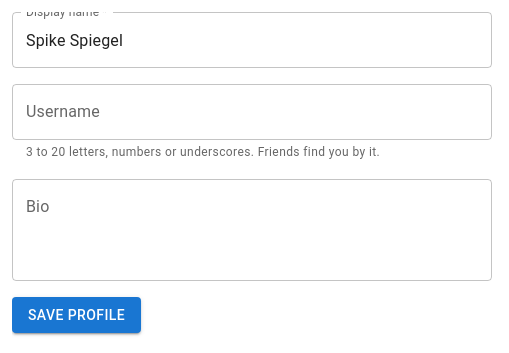
Test: ProfileForm › clears the error when the user edits again
The image size is (509, 353).
In the field labelled "Username": (252,112) 12,84 -> 492,140, type "faye"
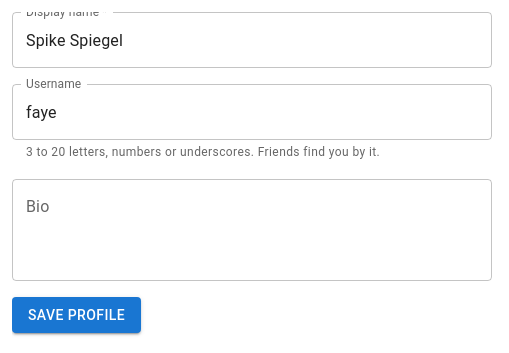
Click the button "Save profile": (76,315) 12,297 -> 141,333
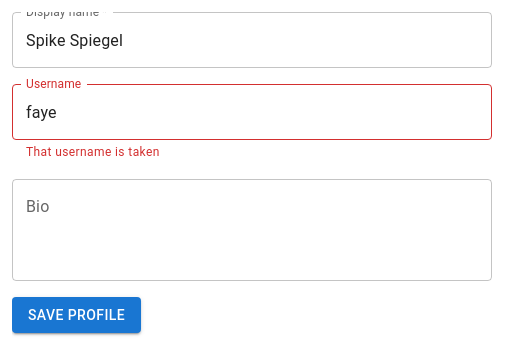
Now the text "That username is taken" is shown, box 26,145 -> 160,159
Replace the text in the field labelled "Username" with "faye2": (252,112) 12,84 -> 492,140
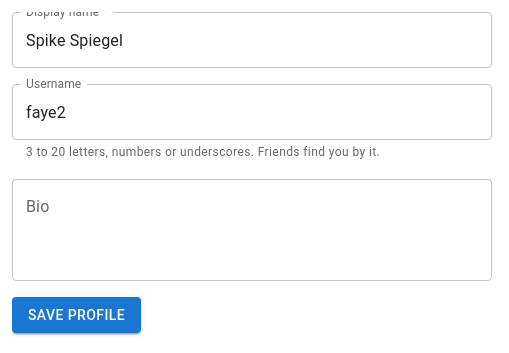
Now the text "That username is taken" is gone
